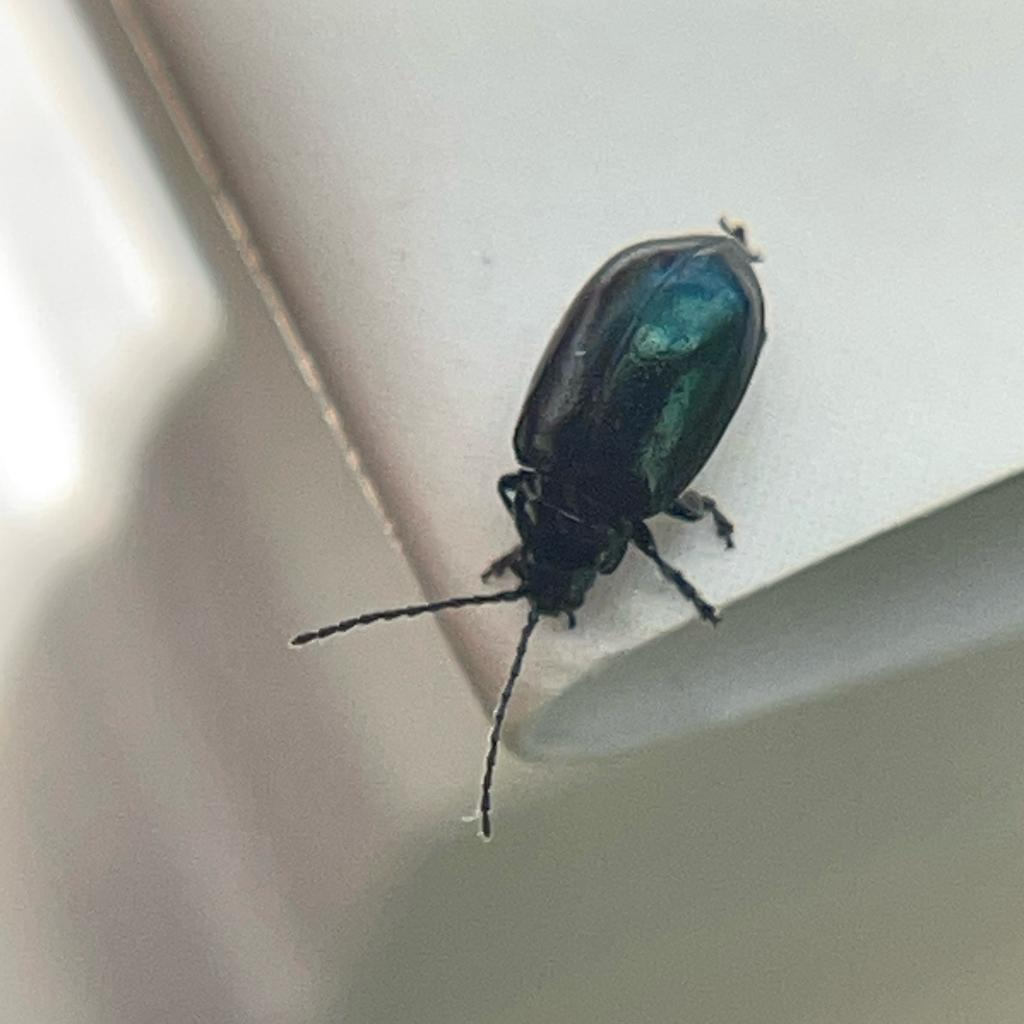flea_beetle: (200, 163, 915, 897)
